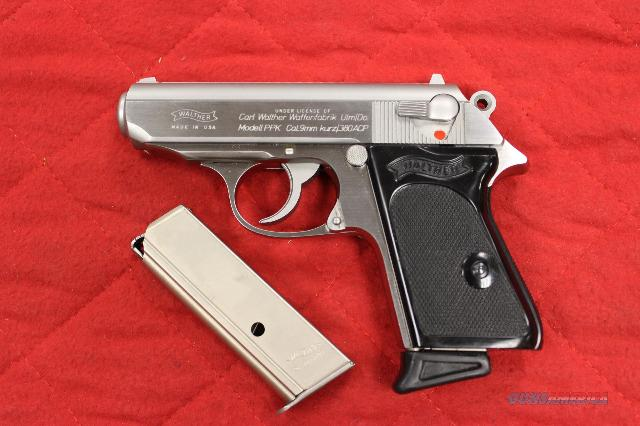handgun: (114, 69, 550, 400)
